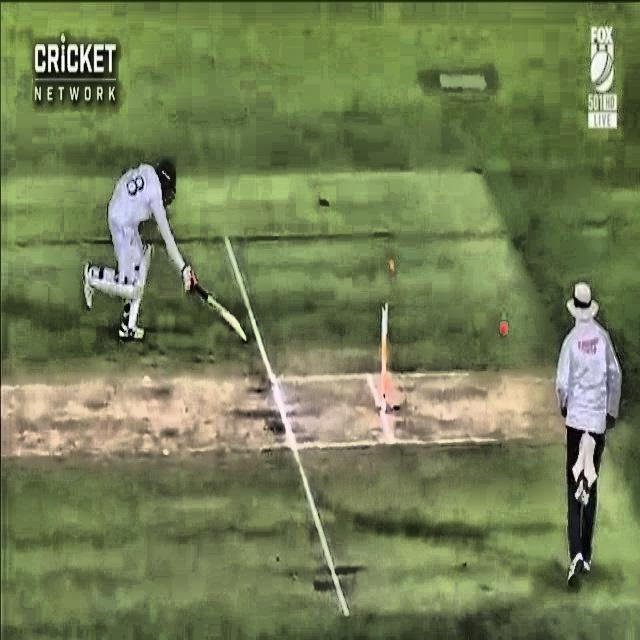Ball: (479, 310, 521, 344)
Bat: (174, 265, 252, 348)
Dis_Wicket: (367, 252, 410, 416)
Pitch_Line: (222, 236, 350, 617)
